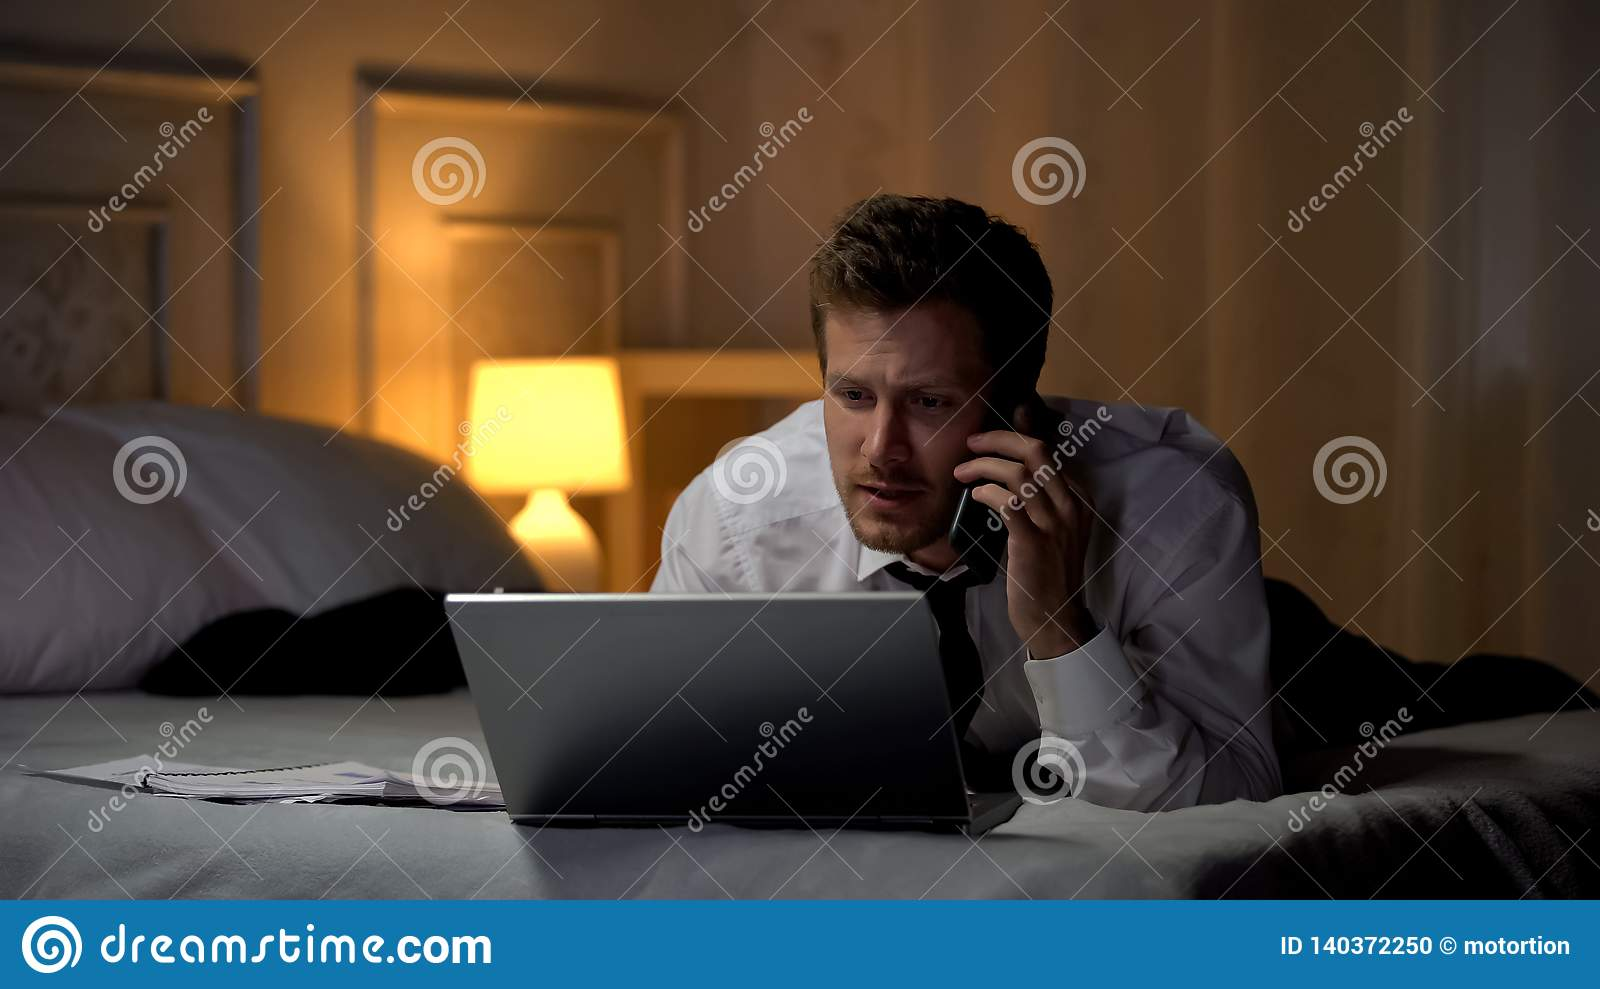phone: (946, 388, 1045, 593)
talk: (821, 353, 1103, 648)
